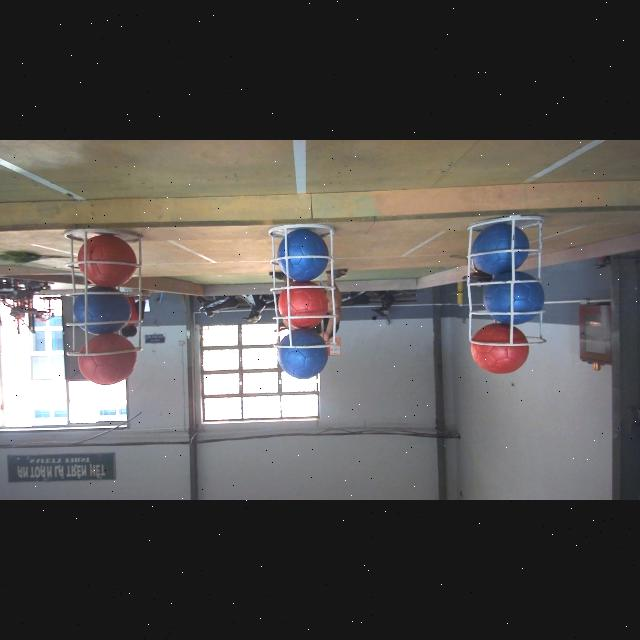B: (484, 274, 544, 326), (472, 224, 530, 274), (75, 286, 132, 336), (278, 230, 329, 282), (278, 328, 328, 378)
R: (77, 235, 136, 288), (77, 334, 136, 386), (470, 326, 530, 374), (278, 282, 332, 328)
